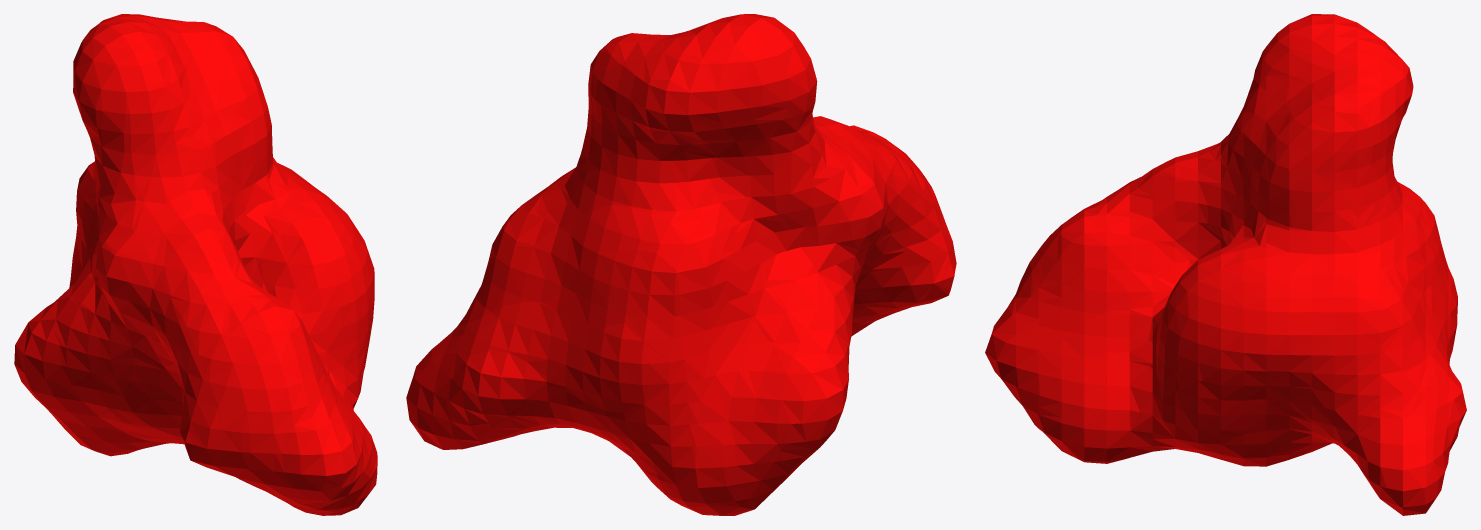
File: yihD_coarse.dae
3 views of the same model, side by side, from view 1: azimuth 30°, elevation 25°; view 2: azimuth 150°, elevation 25°; view 3: azimuth 270°, elevation 25° (orthographic). The views are drawn at different scales.
Visible parts, largest first — view 1: yihD; view 2: yihD; view 3: yihD.
Boxes of the visible parts, x1,y1,x2,y2 form: yihD: (14, 14, 377, 515); yihD: (406, 14, 956, 515); yihD: (985, 14, 1466, 515).
Size of the model in its own units: 36.87 by 43.01 by 45.06.
